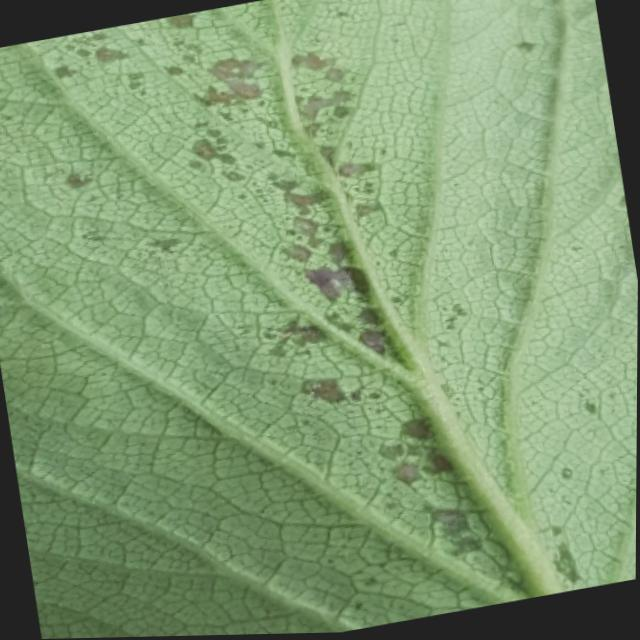Angular Leafspot: (6, 0, 638, 634)
